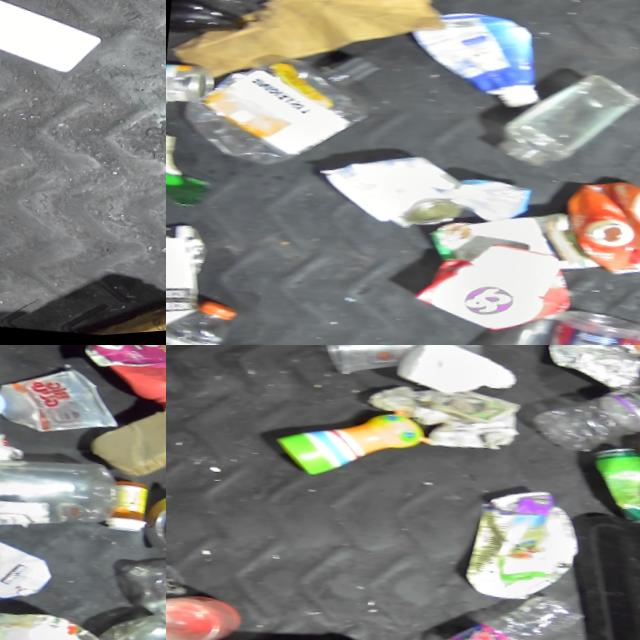can: (318, 144, 463, 248), (575, 448, 640, 537), (166, 57, 217, 114), (0, 424, 23, 487)
milk_jug: (0, 0, 103, 90)
non_white_jug: (389, 6, 552, 127), (536, 173, 640, 299), (64, 345, 166, 427)
plastic_bottle: (521, 373, 640, 476), (409, 581, 585, 640), (166, 291, 245, 345)
